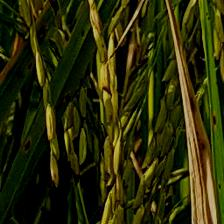2 BacterialBlight: (160, 3, 219, 224)
